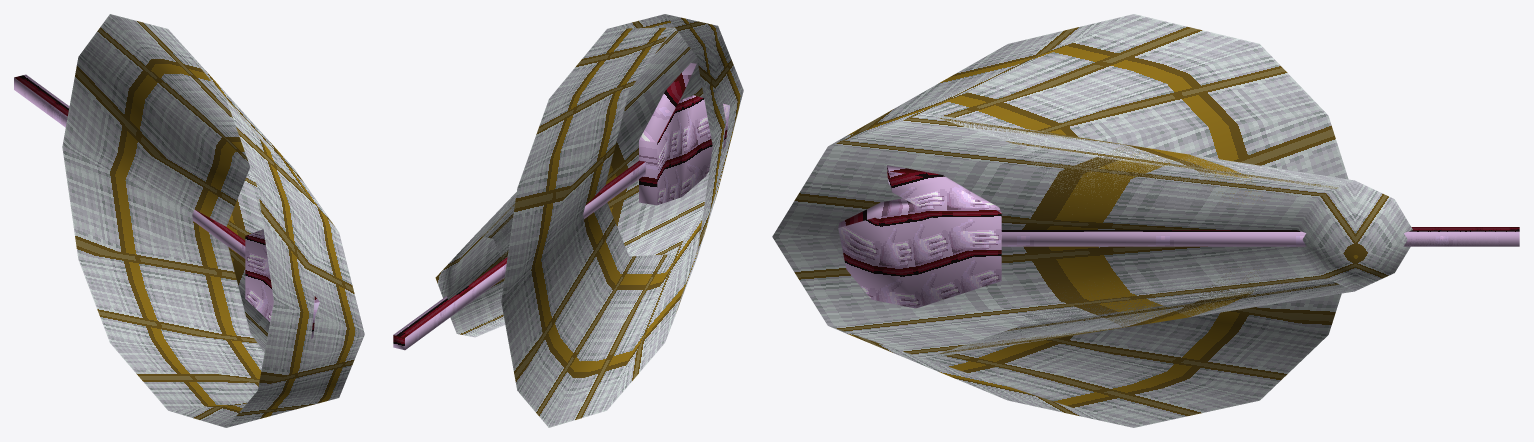
File: 05_03_stick.gltf
3 views of the same model, side by side, from view 1: azimuth 30°, elevation 25°; view 2: azimuth 150°, elevation 25°; view 3: azimuth 270°, elevation 25° (orthographic). The views are drawn at different scales.
Parts seen in each view (by area): view 1: 05_03_stick; view 2: 05_03_stick; view 3: 05_03_stick.
Boxes of the visible parts, left/top/right/bottom form: 05_03_stick: left=14, top=14, right=364, bottom=427; 05_03_stick: left=393, top=14, right=743, bottom=427; 05_03_stick: left=772, top=14, right=1519, bottom=427.
Bounding box in the file's own units: 0.1443 × 0.761 × 1.25.
2 materials, 2 textured.
